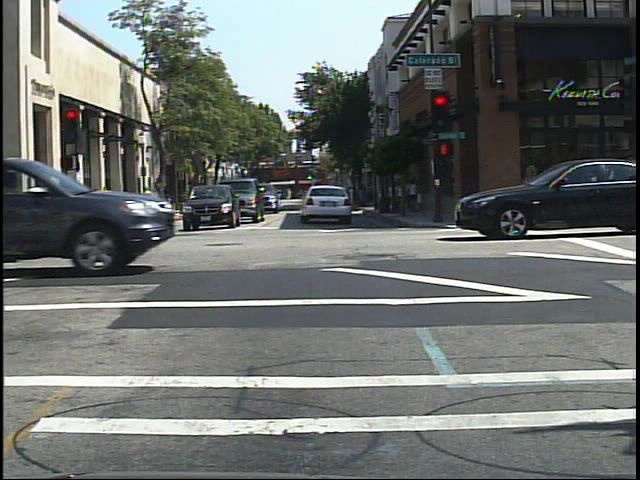person: (158, 180, 176, 216), (90, 189, 104, 229), (139, 182, 157, 212)
